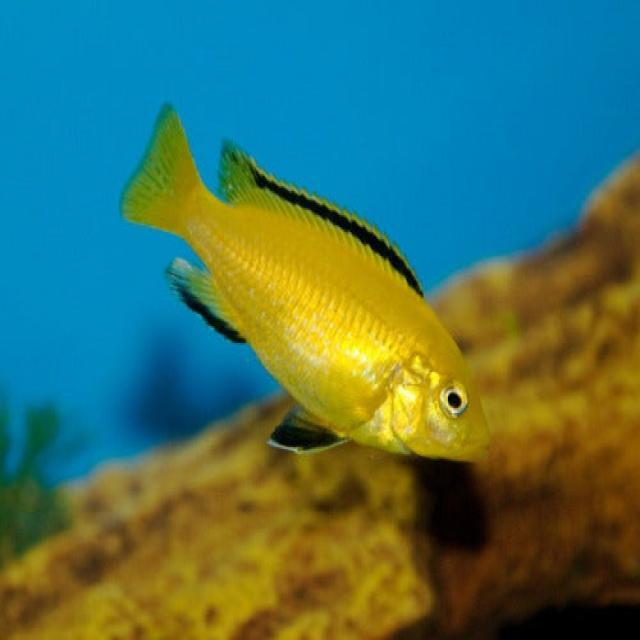YellowCichlid: (127, 106, 484, 461)
